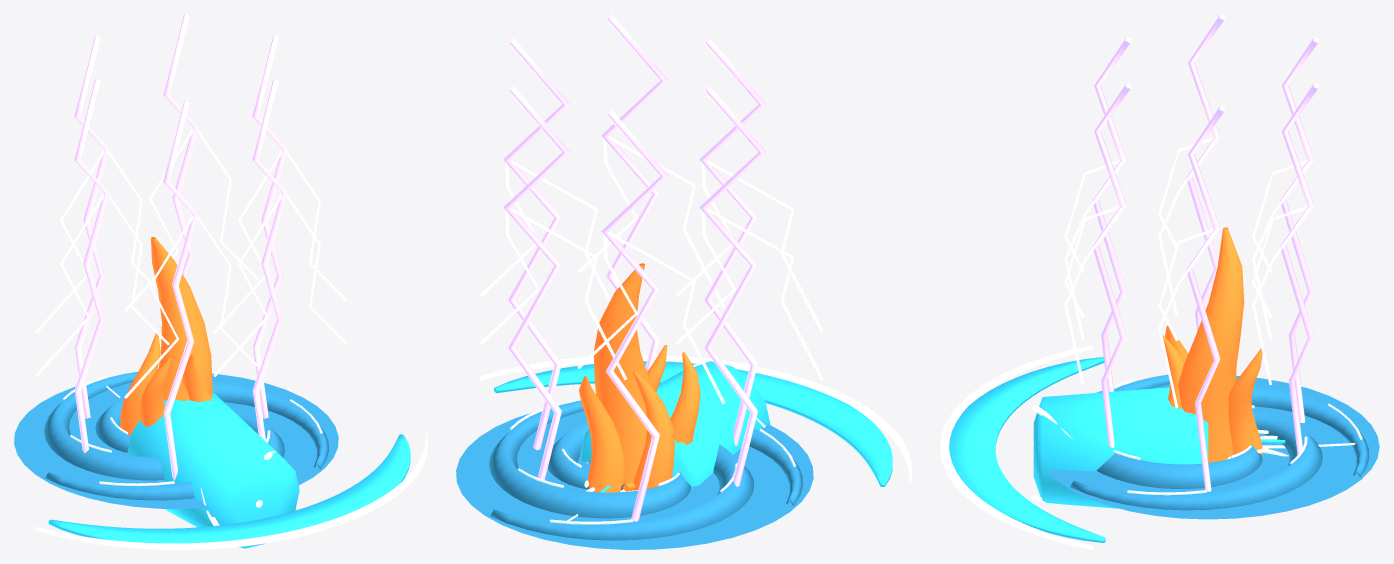
The model's file is combat-fx-193.glb.
The picture shows the model from 3 angles, left to right: view 1: azimuth 30°, elevation 25°; view 2: azimuth 150°, elevation 25°; view 3: azimuth 270°, elevation 25°; orthographic projection. The views are drawn at different scales.
Visible parts, largest first — view 1: fx-water-vortex__Deep blue moving water, fx-plasma-beam__Plasma cyan shell, fx-fire-plume__Orange flame mantle, fx-blade-sweep__Plasma cyan shell, fx-blade-sweep__Blade sweep edge, fx-lightning-2__Astral violet energy, fx-lightning-3__Astral violet energy, fx-lightning-1__Astral violet energy, fx-lightning-0__Astral violet energy, fx-lightning-4__Astral violet energy, fx-lightning-5__Astral violet energy, fx-lightning-1__Contained pale plasma core (+6 smaller); view 2: fx-water-vortex__Deep blue moving water, fx-fire-plume__Orange flame mantle, fx-blade-sweep__Plasma cyan shell, fx-plasma-beam__Plasma cyan shell, fx-lightning-4__Astral violet energy, fx-lightning-3__Astral violet energy, fx-lightning-5__Astral violet energy, fx-lightning-0__Astral violet energy, fx-lightning-2__Astral violet energy, fx-lightning-1__Astral violet energy, fx-blade-sweep__Blade sweep edge, fx-lightning-4__Contained pale plasma core (+6 smaller); view 3: fx-water-vortex__Deep blue moving water, fx-plasma-beam__Plasma cyan shell, fx-fire-plume__Orange flame mantle, fx-blade-sweep__Plasma cyan shell, fx-blade-sweep__Blade sweep edge, fx-lightning-0__Astral violet energy, fx-lightning-5__Astral violet energy, fx-lightning-1__Astral violet energy, fx-lightning-4__Astral violet energy, fx-lightning-2__Astral violet energy, fx-lightning-3__Astral violet energy, fx-lightning-0__Contained pale plasma core (+6 smaller).
Part boxes in pixels (left/top/right/bottom): fx-water-vortex__Deep blue moving water: left=14, top=369, right=338, bottom=508; fx-plasma-beam__Plasma cyan shell: left=127, top=393, right=299, bottom=548; fx-fire-plume__Orange flame mantle: left=120, top=237, right=212, bottom=435; fx-blade-sweep__Plasma cyan shell: left=48, top=434, right=410, bottom=543; fx-blade-sweep__Blade sweep edge: left=35, top=431, right=427, bottom=549; fx-lightning-2__Astral violet energy: left=163, top=101, right=198, bottom=480; fx-lightning-3__Astral violet energy: left=73, top=79, right=109, bottom=453; fx-lightning-1__Astral violet energy: left=251, top=79, right=287, bottom=441; fx-lightning-0__Astral violet energy: left=252, top=35, right=287, bottom=418; fx-lightning-4__Astral violet energy: left=73, top=35, right=109, bottom=418; fx-lightning-5__Astral violet energy: left=162, top=14, right=198, bottom=279; fx-lightning-1__Contained pale plasma core: left=213, top=193, right=347, bottom=376; fx-water-vortex__Deep blue moving water: left=456, top=400, right=813, bottom=549; fx-fire-plume__Orange flame mantle: left=579, top=263, right=700, bottom=492; fx-blade-sweep__Plasma cyan shell: left=494, top=361, right=892, bottom=486; fx-plasma-beam__Plasma cyan shell: left=580, top=361, right=770, bottom=486; fx-lightning-4__Astral violet energy: left=601, top=110, right=668, bottom=521; fx-lightning-3__Astral violet energy: left=699, top=86, right=766, bottom=486; fx-lightning-5__Astral violet energy: left=503, top=86, right=569, bottom=480; fx-lightning-0__Astral violet energy: left=503, top=38, right=569, bottom=450; fx-lightning-2__Astral violet energy: left=699, top=38, right=766, bottom=445; fx-lightning-1__Astral violet energy: left=601, top=14, right=668, bottom=371; fx-blade-sweep__Blade sweep edge: left=479, top=354, right=911, bottom=484; fx-lightning-4__Contained pale plasma core: left=577, top=111, right=725, bottom=403; fx-water-vortex__Deep blue moving water: left=1046, top=374, right=1379, bottom=519; fx-plasma-beam__Plasma cyan shell: left=1033, top=387, right=1208, bottom=508; fx-fire-plume__Orange flame mantle: left=1162, top=227, right=1263, bottom=462; fx-blade-sweep__Plasma cyan shell: left=949, top=357, right=1105, bottom=542; fx-blade-sweep__Blade sweep edge: left=940, top=345, right=1093, bottom=549; fx-lightning-0__Astral violet energy: left=1186, top=106, right=1225, bottom=491; fx-lightning-5__Astral violet energy: left=1280, top=82, right=1319, bottom=454; fx-lightning-1__Astral violet energy: left=1092, top=83, right=1131, bottom=447; fx-lightning-4__Astral violet energy: left=1280, top=37, right=1319, bottom=422; fx-lightning-2__Astral violet energy: left=1092, top=37, right=1131, bottom=391; fx-lightning-3__Astral violet energy: left=1186, top=14, right=1225, bottom=331; fx-lightning-0__Contained pale plasma core: left=1158, top=228, right=1216, bottom=408.
Size of the model in its own units: 2.72 by 2.88 by 2.51.
